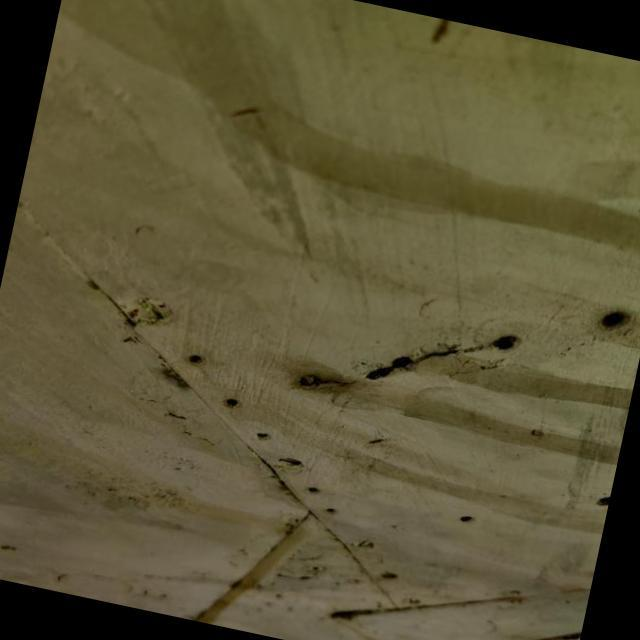Rupture: (269, 269, 540, 446)
